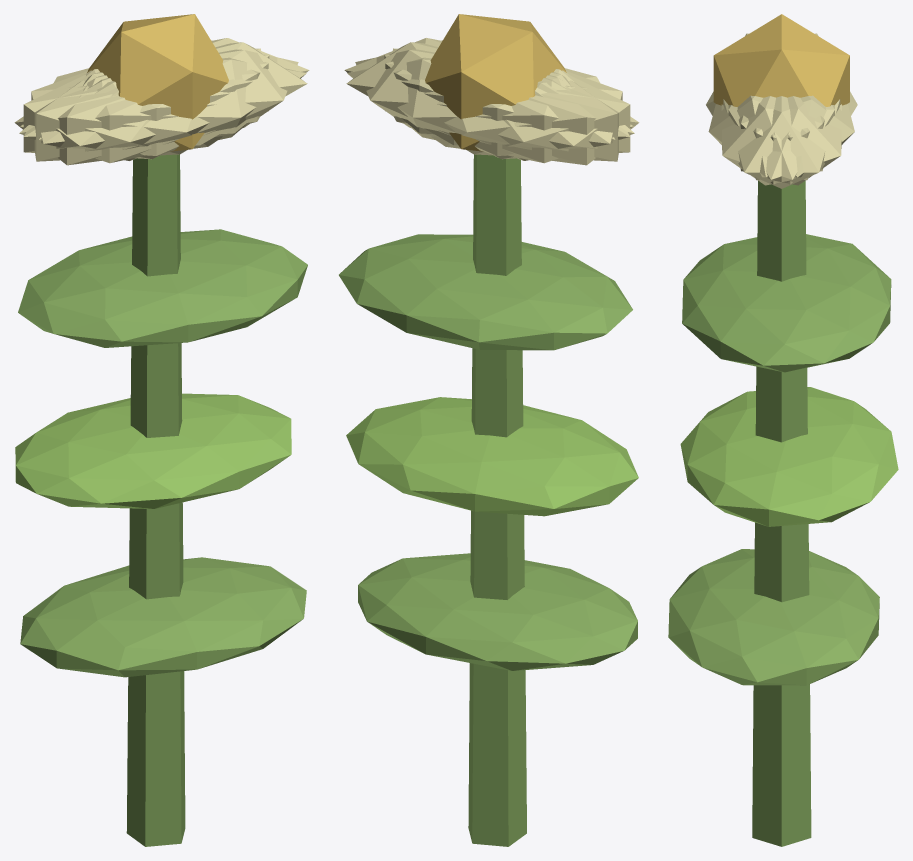
Rendered from euphorbia-milii.glb.
3 renders of one model, left to right at view 1: azimuth 30°, elevation 25°; view 2: azimuth 150°, elevation 25°; view 3: azimuth 270°, elevation 25°, orthographic.
Visible parts, largest first — view 1: stem, leaf0, leaf2, leaf1, center, petal1, petal6, petal2, petal5, petal7, petal0, petal4 (+2 smaller); view 2: stem, leaf1, leaf2, leaf0, center, petal8, petal3, petal7, petal4, petal2, petal0, petal5 (+2 smaller); view 3: stem, leaf2, leaf1, leaf0, center, petal0, petal5, petal4, petal8, petal1.
Boxes of the visible parts, x1=… form: stem: x1=126, y1=154, x2=185, y2=846; leaf0: x1=20, y1=557, x2=306, y2=677; leaf2: x1=18, y1=229, x2=307, y2=347; leaf1: x1=15, y1=393, x2=291, y2=508; center: x1=87, y1=14, x2=228, y2=151; petal1: x1=19, y1=57, x2=306, y2=163; petal6: x1=14, y1=70, x2=222, y2=165; petal2: x1=34, y1=48, x2=260, y2=161; petal5: x1=38, y1=49, x2=298, y2=155; petal7: x1=23, y1=54, x2=269, y2=159; petal0: x1=87, y1=42, x2=307, y2=145; petal4: x1=20, y1=38, x2=309, y2=137; stem: x1=468, y1=154, x2=526, y2=846; leaf1: x1=346, y1=397, x2=638, y2=516; leaf2: x1=339, y1=234, x2=632, y2=350; leaf0: x1=358, y1=553, x2=637, y2=670; center: x1=425, y1=14, x2=566, y2=151; petal8: x1=347, y1=57, x2=634, y2=163; petal3: x1=431, y1=70, x2=639, y2=165; petal7: x1=392, y1=48, x2=618, y2=161; petal4: x1=355, y1=49, x2=615, y2=155; petal2: x1=384, y1=54, x2=630, y2=159; petal0: x1=346, y1=42, x2=566, y2=145; petal5: x1=344, y1=38, x2=633, y2=136; stem: x1=752, y1=180, x2=811, y2=846; leaf2: x1=682, y1=234, x2=891, y2=372; leaf1: x1=680, y1=387, x2=898, y2=526; leaf0: x1=668, y1=549, x2=879, y2=685; center: x1=713, y1=14, x2=849, y2=106; petal0: x1=723, y1=96, x2=840, y2=188; petal5: x1=721, y1=96, x2=834, y2=185; petal4: x1=728, y1=96, x2=841, y2=185; petal8: x1=738, y1=95, x2=854, y2=177; petal1: x1=708, y1=95, x2=824, y2=177.
Bounding box in the file's own units: 0.1452 × 0.398 × 0.1035.
